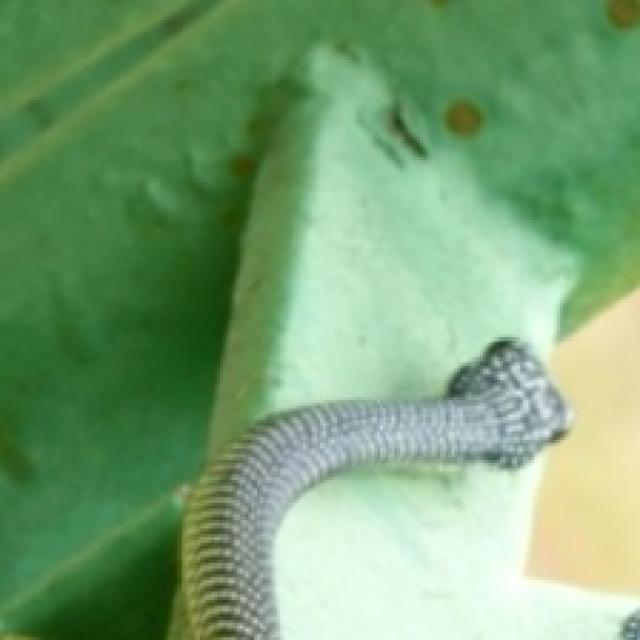paradise tree snake: (181, 342, 568, 639)
